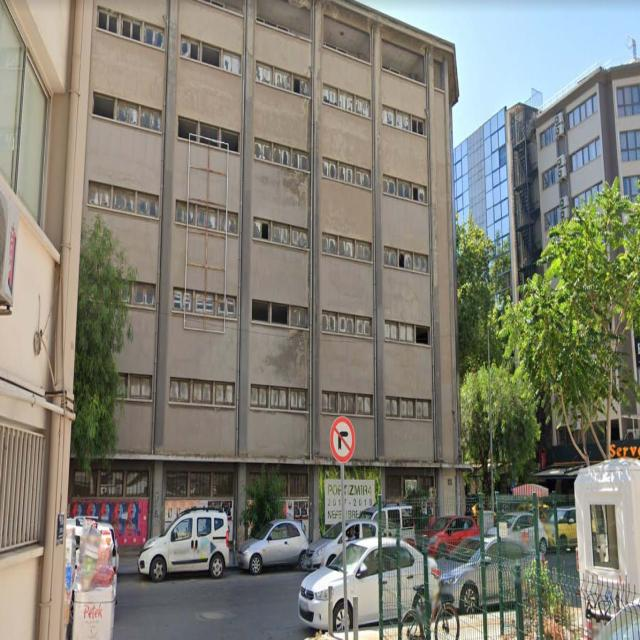sagadonulmez: (330, 414, 354, 462)
